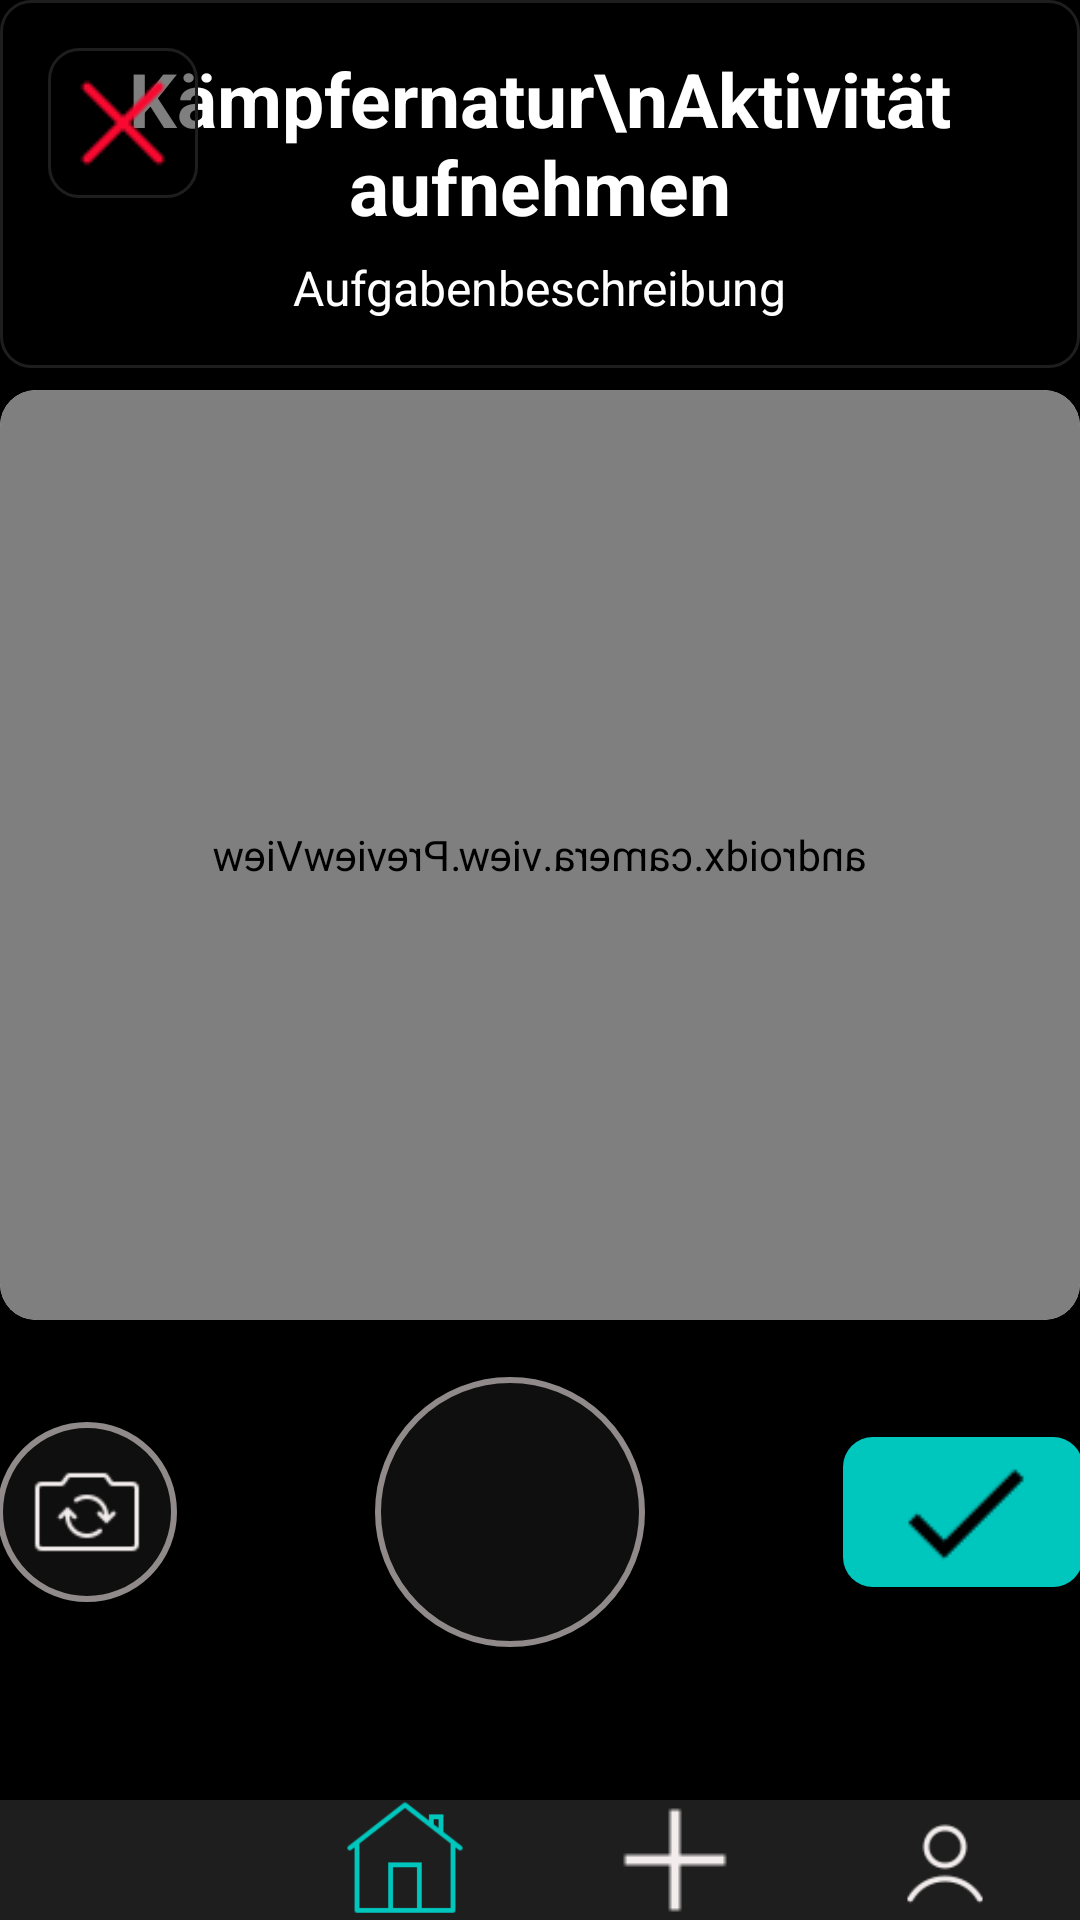

Where to tap for icons on this 1080w x 1920h app screen, as point (x, y):
add: point (675, 1860)
Auswahl bestätigen: point (961, 1512)
home: point (405, 1857)
Kamera wechseln: point (88, 1512)
profile: point (945, 1863)
